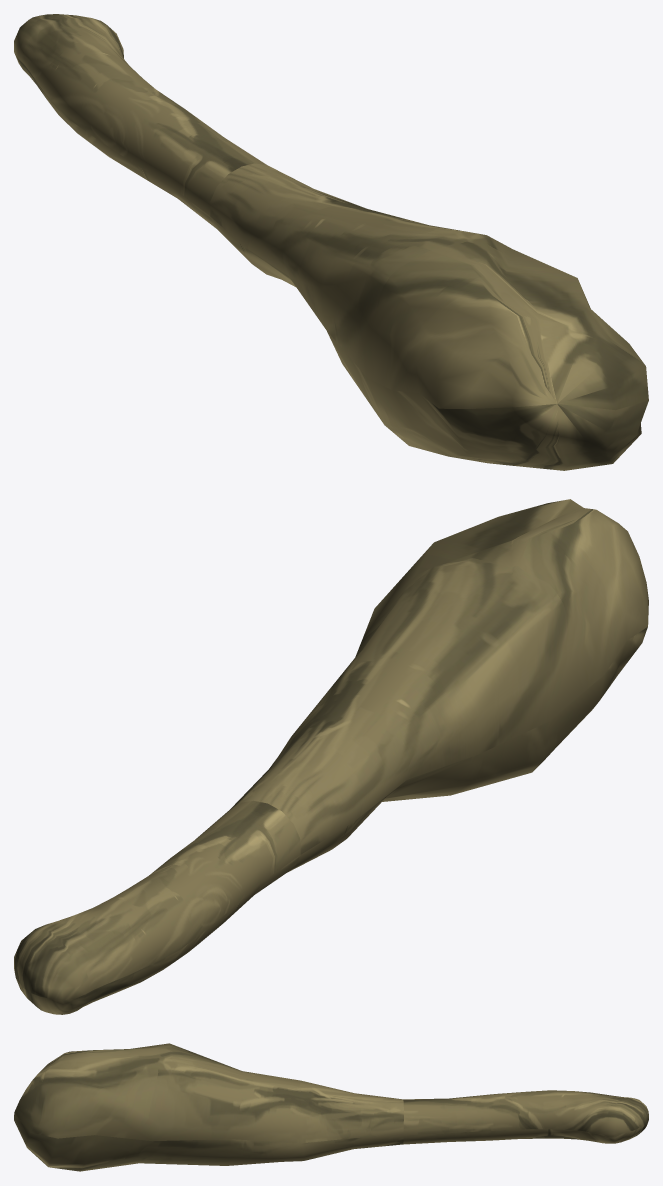
File: weapon .fbx
3 renders of one model, top to bottom at view 1: azimuth 30°, elevation 25°; view 2: azimuth 150°, elevation 25°; view 3: azimuth 270°, elevation 25°, orthographic. The views are drawn at different scales.
Parts seen in each view (by area): view 1: fireaxe; view 2: fireaxe; view 3: fireaxe.
Boxes of the visible parts, box(x1,y1,x2,y2) form: fireaxe: box(14, 14, 648, 470); fireaxe: box(14, 499, 648, 1014); fireaxe: box(14, 1043, 648, 1171).
Size of the model in its own units: 10.78 by 52.98 by 10.38.
